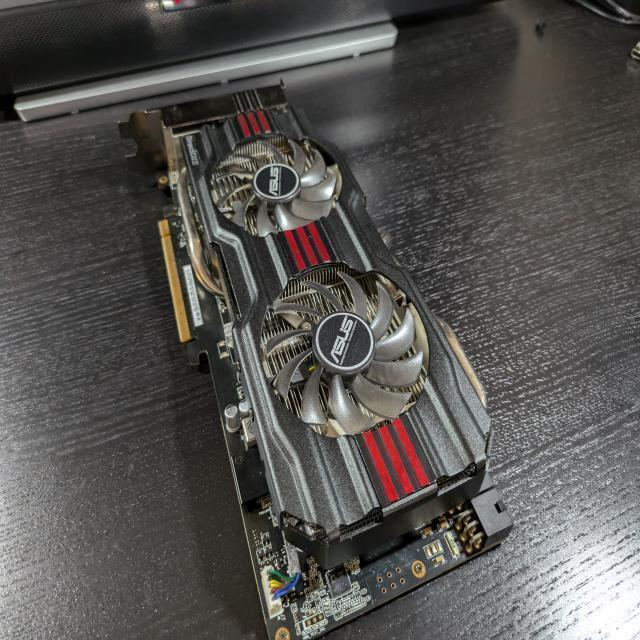GPU: (102, 78, 514, 639)
